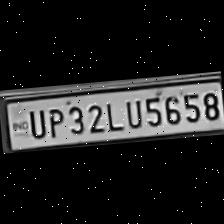2: (83, 98, 105, 133)
3: (63, 101, 86, 135)
5: (141, 92, 163, 127), (180, 90, 200, 122)
6: (160, 92, 182, 124)
8: (198, 87, 221, 120)
L: (102, 97, 122, 130)
P: (44, 104, 65, 138)
U: (121, 95, 143, 129), (24, 105, 46, 138)
